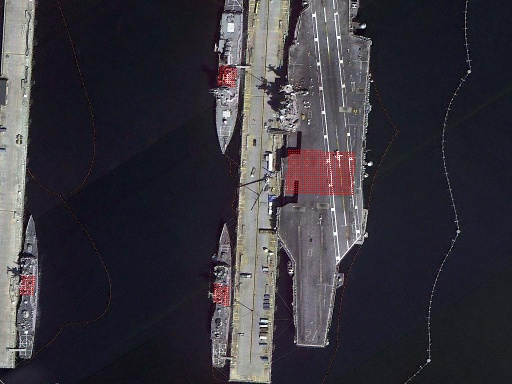ship: (271, 1, 373, 350), (211, 1, 247, 157), (207, 222, 239, 370), (13, 214, 45, 361)
